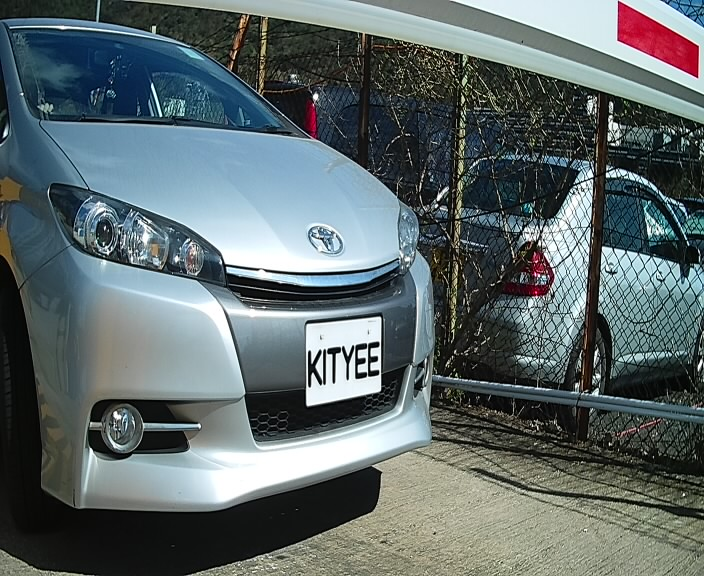License Plate: (281, 307, 407, 418)
